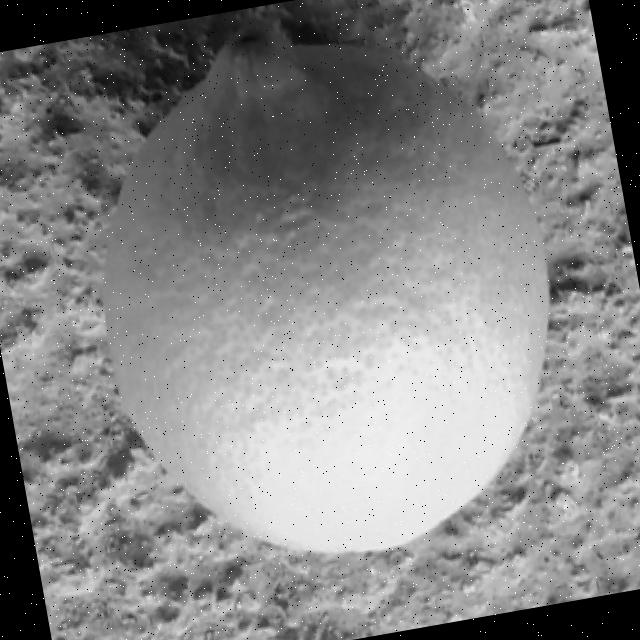Ripe: (45, 0, 597, 602)
